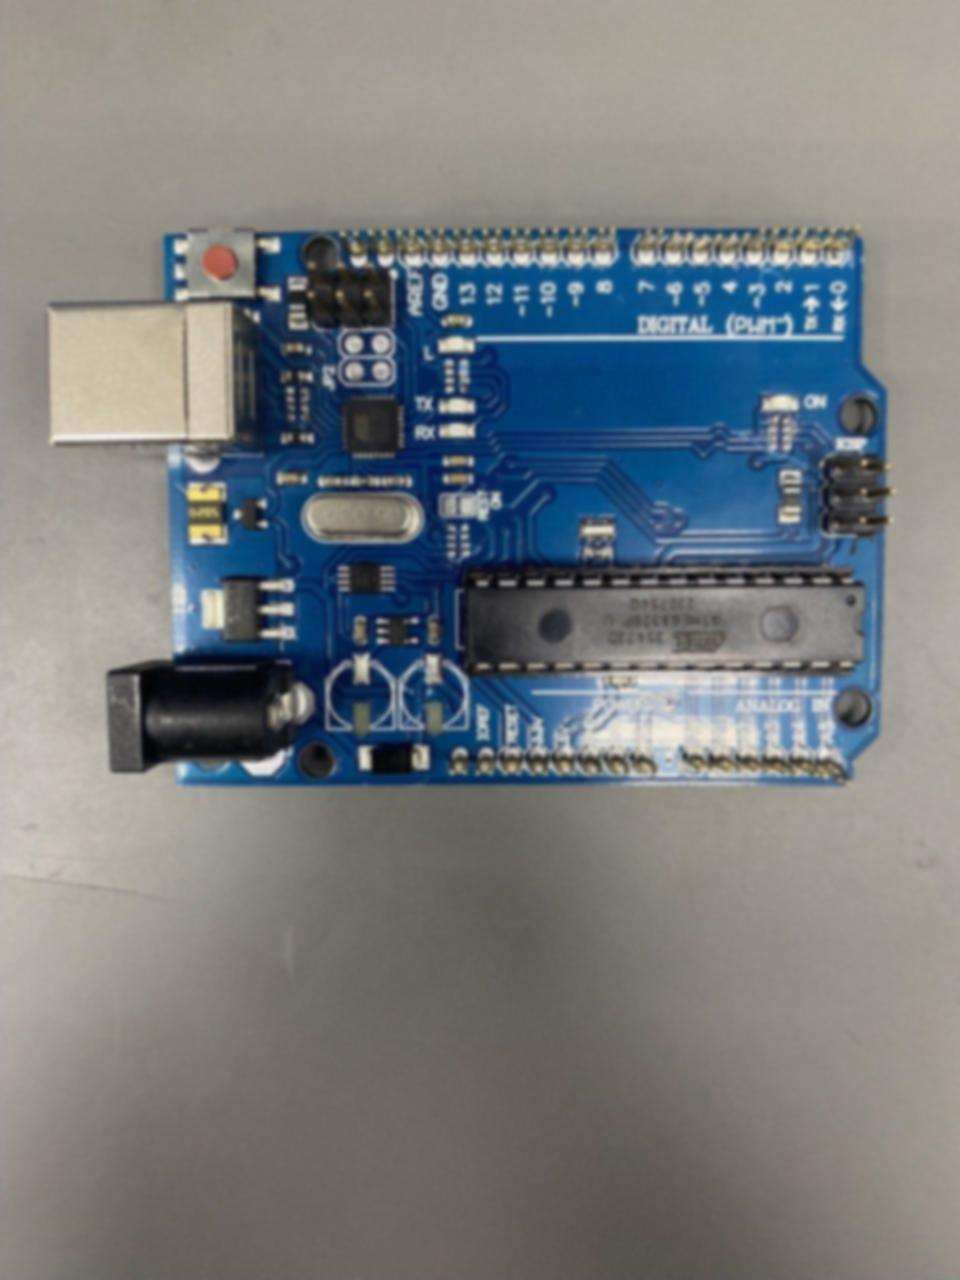ATmega328 chip: (462, 564, 865, 679)
Arduino board: (45, 226, 896, 787)
USB: (44, 300, 265, 462)
